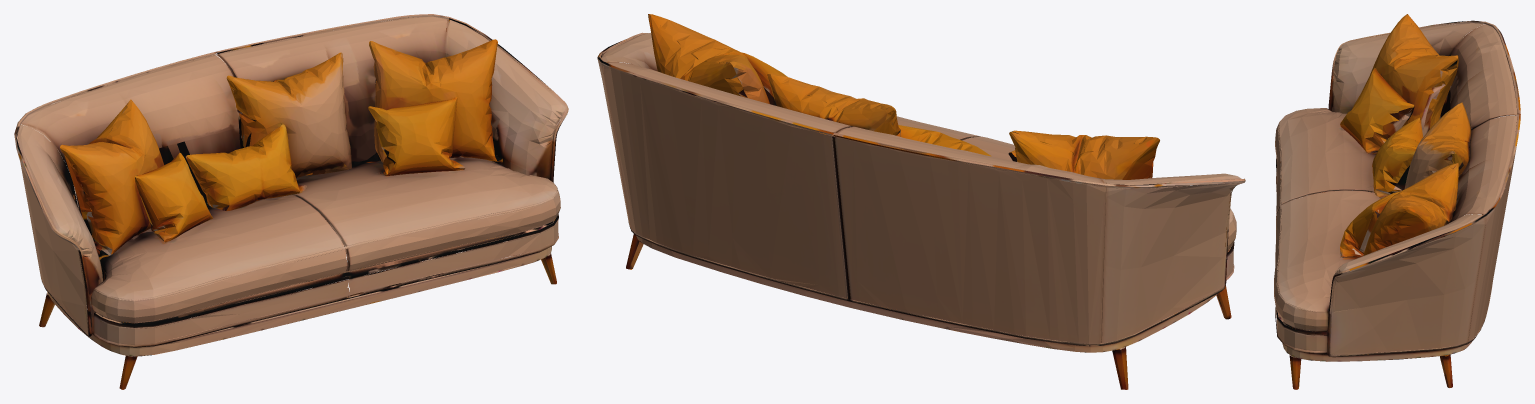
The model's file is edited_mesh.glb.
The picture shows the model from 3 angles, left to right: view 1: azimuth 30°, elevation 25°; view 2: azimuth 150°, elevation 25°; view 3: azimuth 270°, elevation 25°; orthographic projection. The views are drawn at different scales.
Parts seen in each view (by area): view 1: solid_001_wire; view 2: solid_001_wire; view 3: solid_001_wire.
Boxes of the visible parts, bbox=[...] form: solid_001_wire: bbox=[14, 14, 568, 389]; solid_001_wire: bbox=[597, 14, 1245, 389]; solid_001_wire: bbox=[1274, 14, 1520, 389].
Bounding box in the file's own units: 2 × 0.7466 × 0.909.
Materials: 1 (1 with a texture image).
